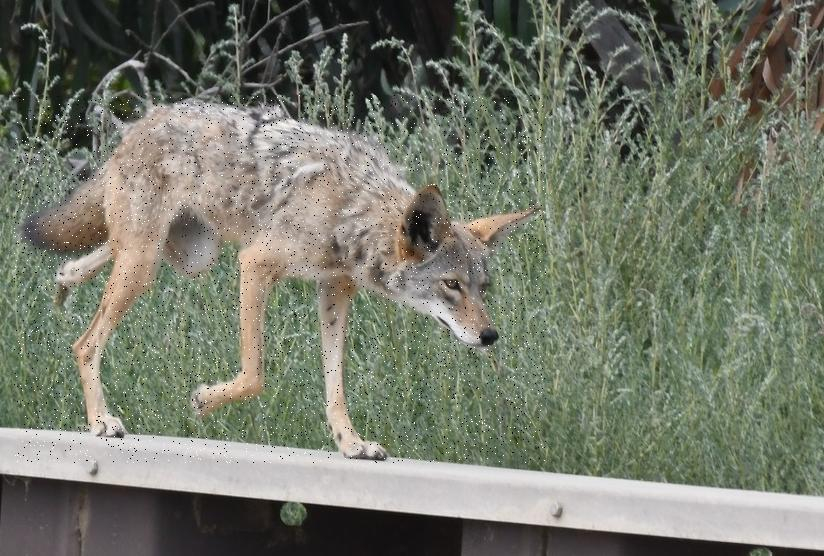Coyote: (13, 95, 545, 463)
